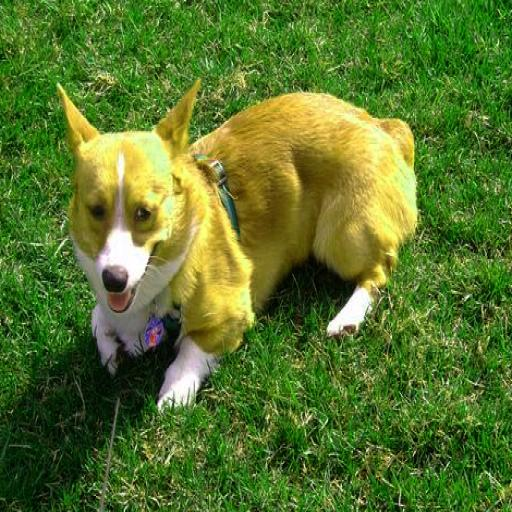dog_face: (56, 79, 196, 315)
